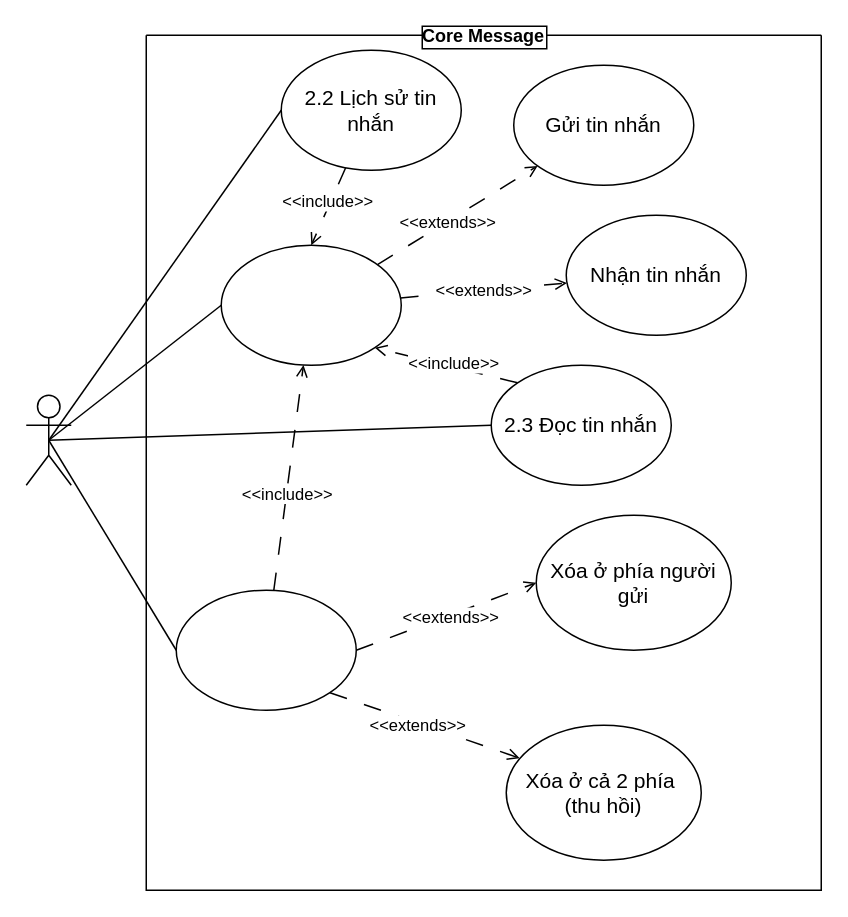
Some shapes in this 848 by 917 pixel diagram are drawn without their labels. Here are the shapes that lost their labels. From the top down, the box of each, then its label:
(220, 244, 401, 365): 2.1 Chat 1-1
(25, 394, 71, 485): User
(175, 589, 356, 710): 2.4 Xóa tin nhắn
